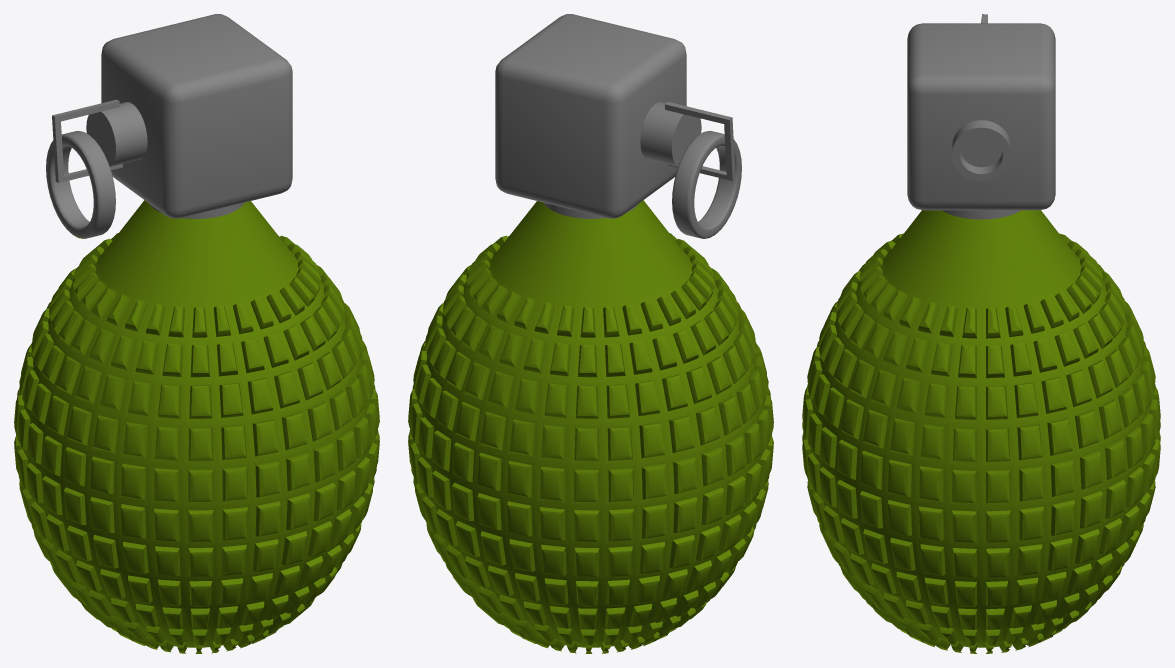
File: bomb.fbx
3 views of the same model, side by side, from view 1: azimuth 30°, elevation 25°; view 2: azimuth 150°, elevation 25°; view 3: azimuth 270°, elevation 25° (orthographic).
Parts seen in each view (by area): view 1: Bomb; view 2: Bomb; view 3: Bomb.
Boxes of the visible parts, box(x1,y1,x2,y2) form: Bomb: box(14, 14, 379, 653); Bomb: box(408, 14, 773, 653); Bomb: box(802, 14, 1160, 653).
Bounding box in the file's own units: 165 × 290 × 161.
